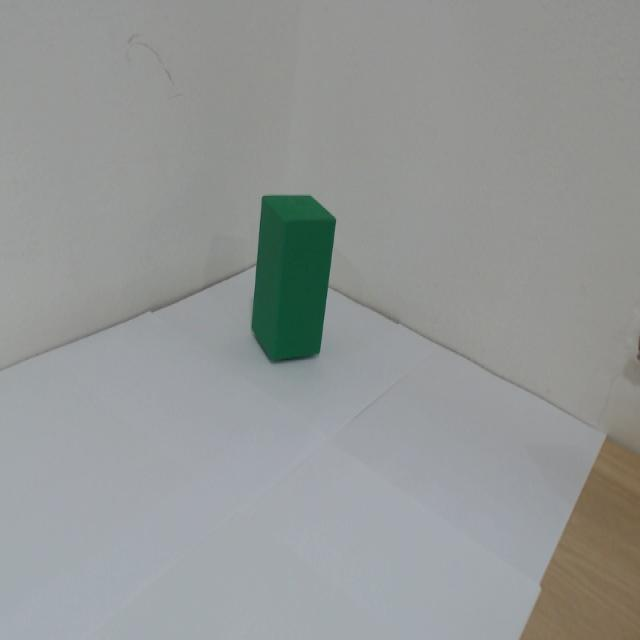cube: (253, 171, 333, 364)
